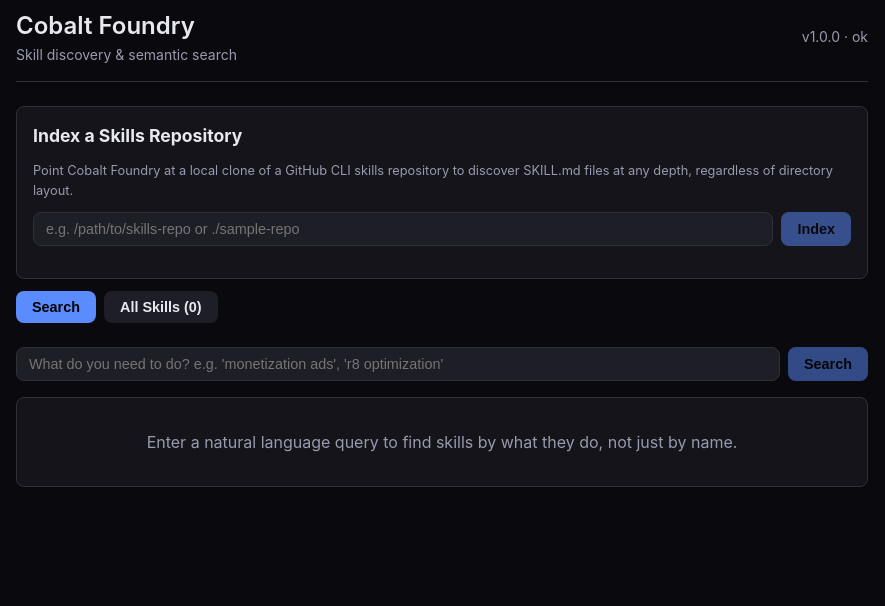
App › shows error when indexing fails
Type "/bad/path" into the field with placeholder "e.g. /path/to/skills-repo or ./sample-repo". click: (403, 229)
box: left=33, top=212, right=773, bottom=246
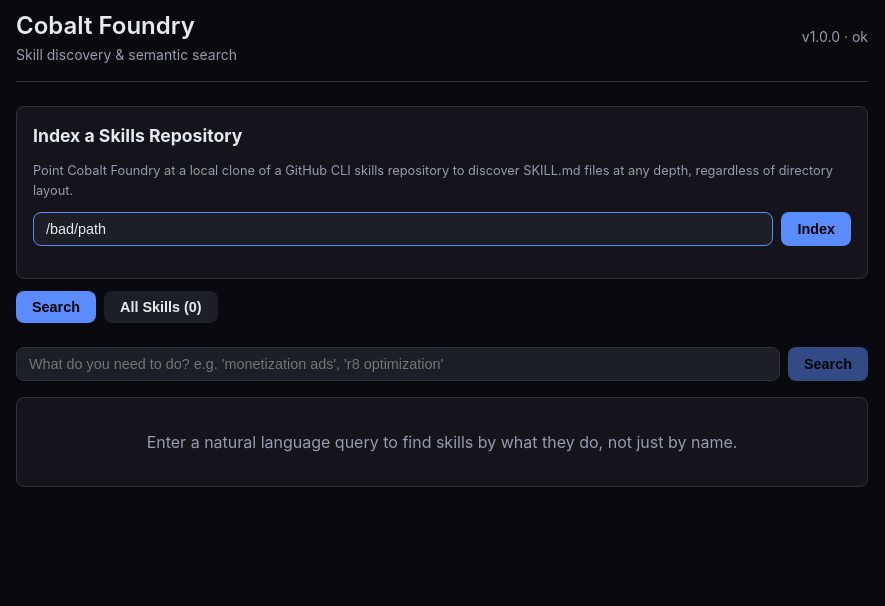
Press Enter
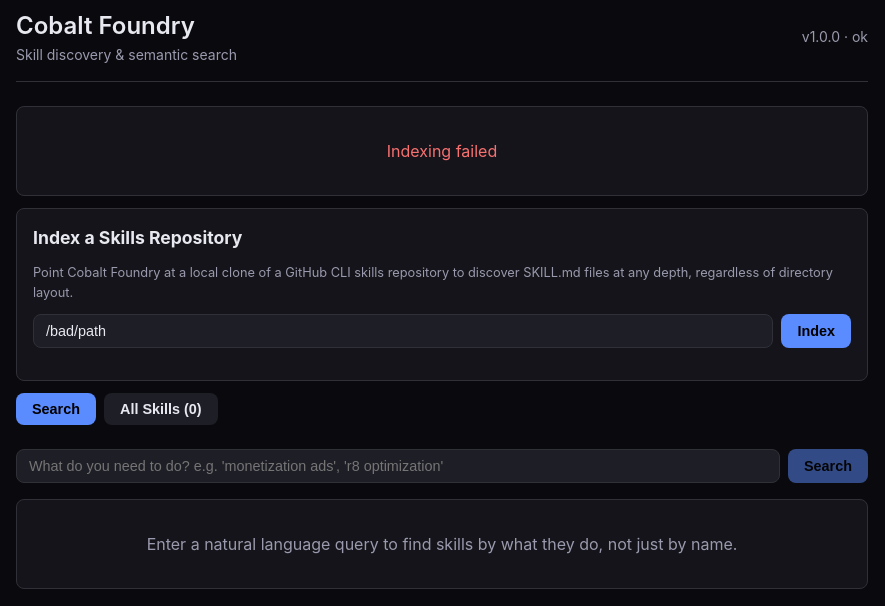
Expected: the text "Indexing failed" is shown, left=16, top=106, right=868, bottom=196
